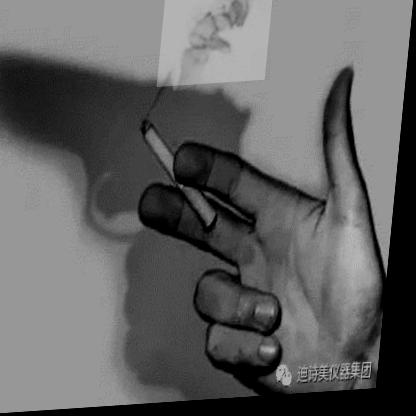smoke: (159, 0, 274, 89)
